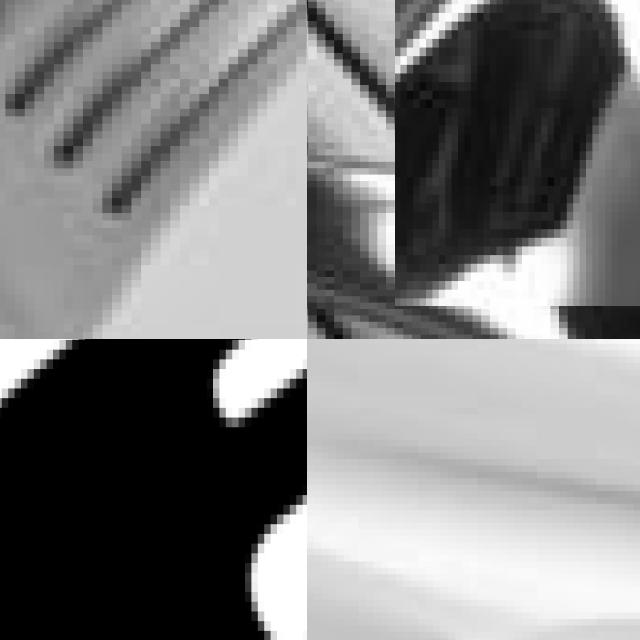forks: (0, 0, 307, 339), (0, 339, 307, 640)
spoons: (460, 0, 640, 339)
